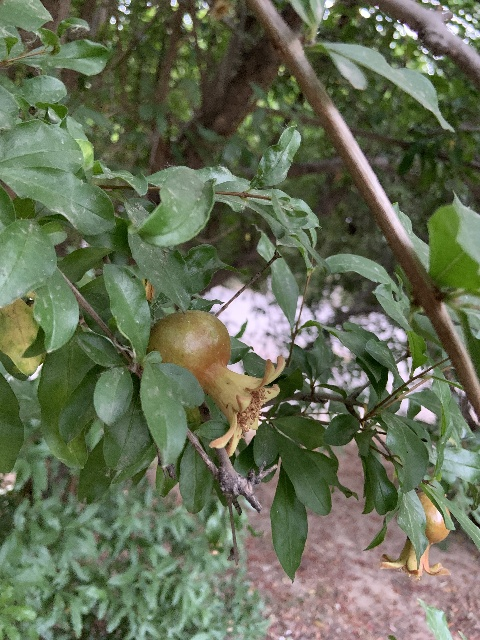early-fruit: (147, 310, 286, 457), (380, 491, 450, 579)
